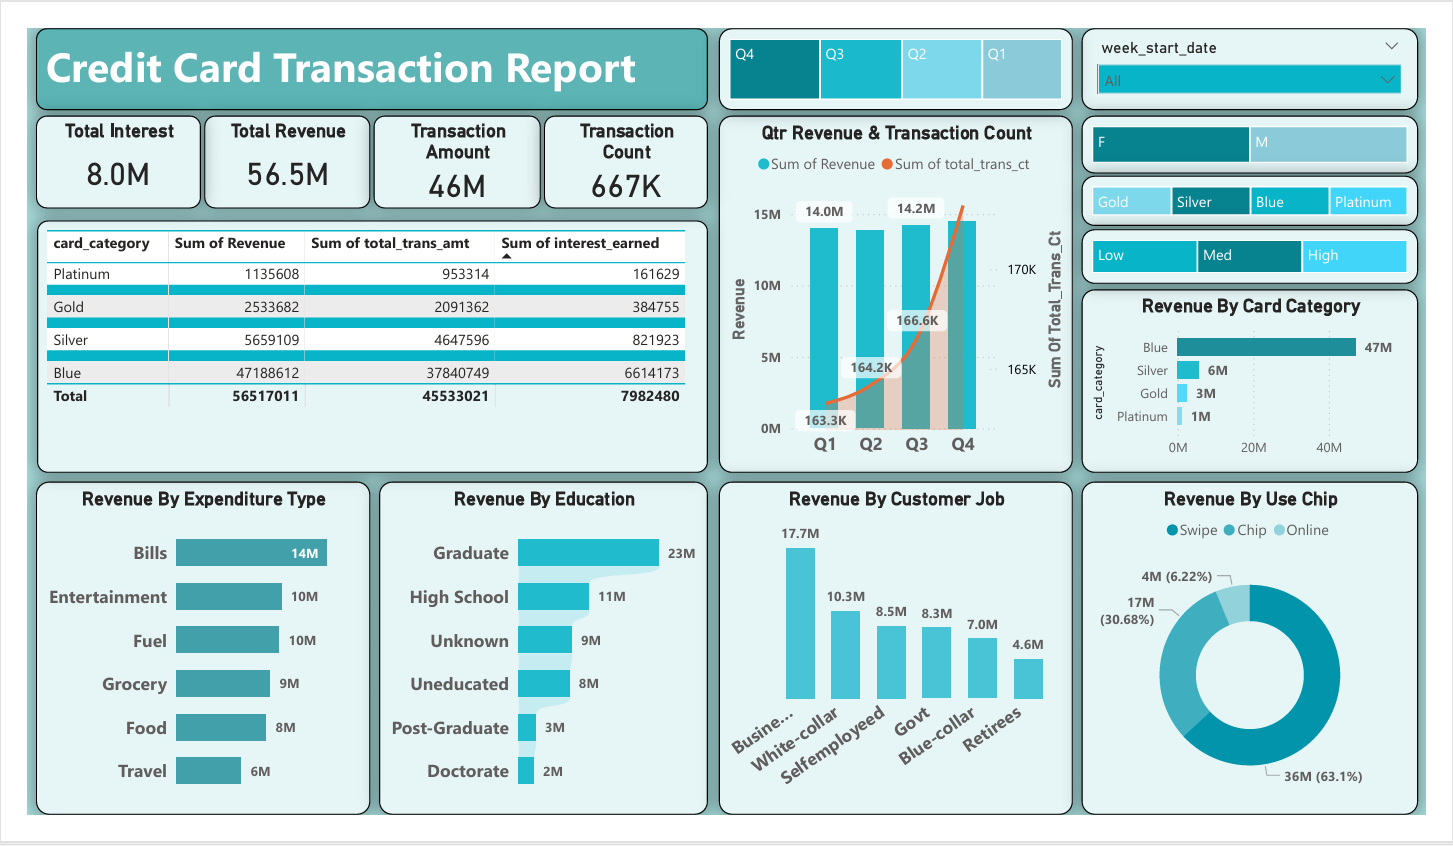

The dashboard page shown, as its layout file describes it:
{"tool":"powerbi","page":{"name":"CreditCardTransaction Report","canvas":[1280,720],"ordinal":1},"visuals":[{"type":"textbox","box":[7.7,0,615.8,75.1],"z":0},{"type":"lineClusteredColumnComboChart","title":"Qtr Revenue & Transaction Count","fields":{"Category":["public cc_detail.qtr"],"Y":["Sum(public cc_detail.Revenue)"],"Y2":["Sum(public cc_detail.total_trans_ct)"]},"box":[632.7,79.7,324.8,327.8],"z":1000},{"type":"clusteredBarChart","title":"Revenue By Expenditure Type","fields":{"Category":["public cc_detail.exp_type"],"Y":["Sum(public cc_detail.Revenue)"]},"box":[7.7,415.1,306.4,304.9],"z":2000},{"type":"barChart","title":"Revenue By Education","fields":{"Category":["public cust_detail.education_level"],"Y":["Sum(public cc_detail.Revenue)"]},"box":[321.7,415.1,301.8,304.9],"z":3000},{"type":"columnChart","title":"Revenue By Customer Job","fields":{"Category":["public cust_detail.customer_job"],"Y":["Sum(public cc_detail.Revenue)"]},"box":[632.7,415.1,324.8,304.9],"z":4000},{"type":"barChart","title":"Revenue By Card Category","fields":{"Category":["public cc_detail.card_category"],"Y":["Sum(public cc_detail.Revenue)"]},"box":[965.1,239,307.9,168],"z":5000},{"type":"donutChart","title":"Revenue By Use Chip","fields":{"Category":["public cc_detail.use_chip"],"Y":["Sum(public cc_detail.Revenue)"]},"box":[965.1,415.1,307.9,304.9],"z":6000},{"type":"tableEx","fields":{"Values":["public cc_detail.card_category","Sum(public cc_detail.Revenue)","Sum(public cc_detail.total_trans_amt)","Sum(public cc_detail.interest_earned)"]},"box":[9.2,176.2,614.3,231.3],"z":7000},{"type":"card","title":"Total Revenue","fields":{"Values":["Sum(public cc_detail.Revenue)"]},"box":[162.4,79.7,151.7,85.8],"z":8000},{"type":"card","title":"Transaction Amount","fields":{"Values":["Sum(public cc_detail.total_trans_amt)"]},"box":[317.1,79.7,153.2,85.8],"z":9000},{"type":"card","title":"Total Interest","fields":{"Values":["Sum(public cc_detail.interest_earned)"]},"box":[7.7,79.7,151.7,85.8],"z":10000},{"type":"card","title":"Transaction Count","fields":{"Values":["Sum(public cc_detail.total_trans_ct)"]},"box":[473.4,79.7,150.1,85.8],"z":11000},{"type":"slicer","fields":{"Values":["public cc_detail.week_start_date"]},"box":[965.1,0,307.9,75.1],"z":12000},{"type":"treemap","fields":{"Group":["public cc_detail.qtr"],"Values":["Avg(public cc_detail.client_num)"]},"box":[632.7,0,324.8,75.1],"z":13000},{"type":"treemap","fields":{"Values":["Avg(public cc_detail.client_num)"],"Group":["public cust_detail.gender"]},"box":[965.1,79.7,307.9,53.6],"z":14000},{"type":"treemap","fields":{"Values":["Avg(public cc_detail.client_num)"],"Group":["public cc_detail.card_category"]},"box":[965.1,134.8,307.9,46],"z":15000},{"type":"treemap","fields":{"Values":["Avg(public cc_detail.client_num)"],"Group":["public cust_detail.IncomeGroup"]},"box":[965.1,183.8,307.9,50.6],"z":16000}]}

Visuals, with their boxes in screenshot pixels (x1, y1, x2, y2):
textbox: (42, 34, 707, 115)
"Qtr Revenue & Transaction Count" lineClusteredColumnComboChart: (717, 120, 1068, 474)
"Revenue By Expenditure Type" clusteredBarChart: (42, 482, 373, 811)
"Revenue By Education" barChart: (381, 482, 707, 811)
"Revenue By Customer Job" columnChart: (717, 482, 1068, 811)
"Revenue By Card Category" barChart: (1076, 292, 1409, 474)
"Revenue By Use Chip" donutChart: (1076, 482, 1409, 811)
tableEx - public cc_detail.card_category x Sum(public cc_detail.Revenue): (44, 224, 707, 474)
"Total Revenue" card: (209, 120, 373, 213)
"Transaction Amount" card: (376, 120, 542, 213)
"Total Interest" card: (42, 120, 206, 213)
"Transaction Count" card: (545, 120, 707, 213)
slicer - public cc_detail.week_start_date: (1076, 34, 1409, 115)
treemap - public cc_detail.qtr x Avg(public cc_detail.client_num): (717, 34, 1068, 115)
treemap - Avg(public cc_detail.client_num) x public cust_detail.gender: (1076, 120, 1409, 178)
treemap - Avg(public cc_detail.client_num) x public cc_detail.card_category: (1076, 180, 1409, 229)
treemap - Avg(public cc_detail.client_num) x public cust_detail.IncomeGroup: (1076, 233, 1409, 287)
